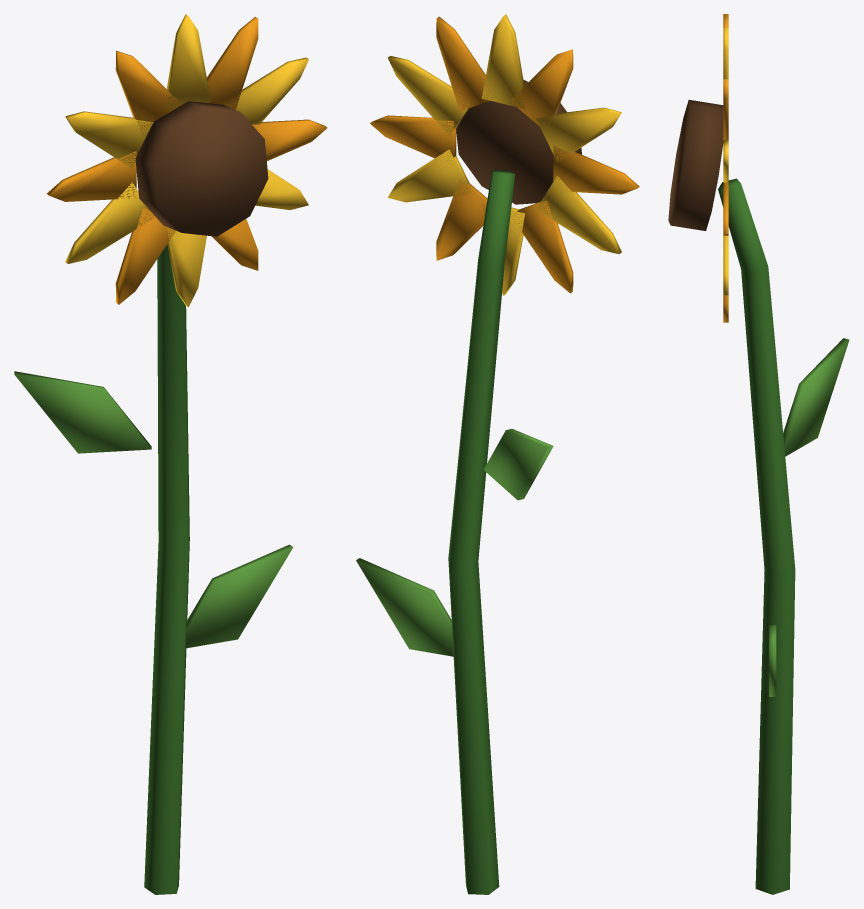
File: prop.honey_sunflower.glb
The picture shows the model from 3 angles, left to right: view 1: azimuth 30°, elevation 25°; view 2: azimuth 150°, elevation 25°; view 3: azimuth 270°, elevation 25°; orthographic projection. The views are drawn at different scales.
Visible parts, largest first — view 1: honey_sunflower; view 2: honey_sunflower; view 3: honey_sunflower.
Part boxes in pixels (x1=…): honey_sunflower: x1=14, y1=14, x2=327, y2=894; honey_sunflower: x1=356, y1=14, x2=639, y2=894; honey_sunflower: x1=668, y1=14, x2=849, y2=894.
Size of the model in its own units: 0.86 by 2.63 by 0.5031.
